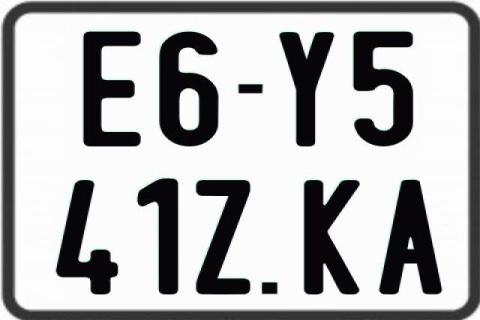0: (54, 180, 120, 294), (352, 31, 416, 147), (157, 30, 219, 146), (136, 177, 180, 295)
A: (377, 178, 442, 294)
E: (83, 29, 147, 147)
K: (301, 180, 360, 296)
Y: (276, 30, 336, 148)
Z: (194, 180, 250, 298)
